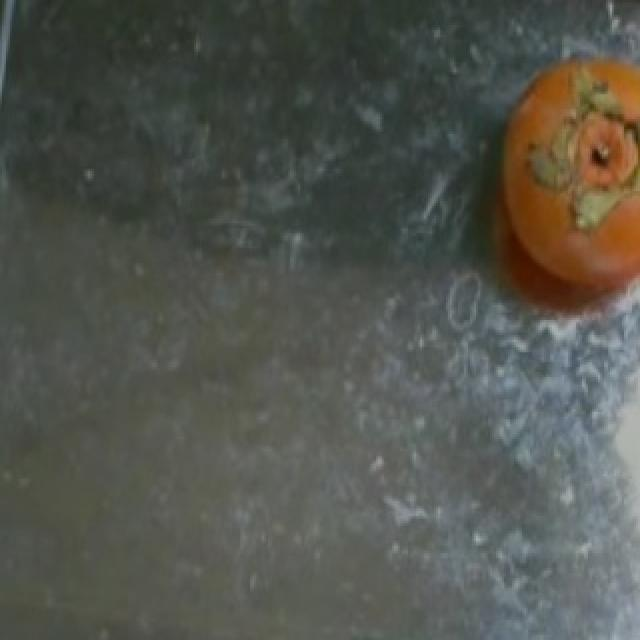Fruit: (470, 37, 638, 352)
